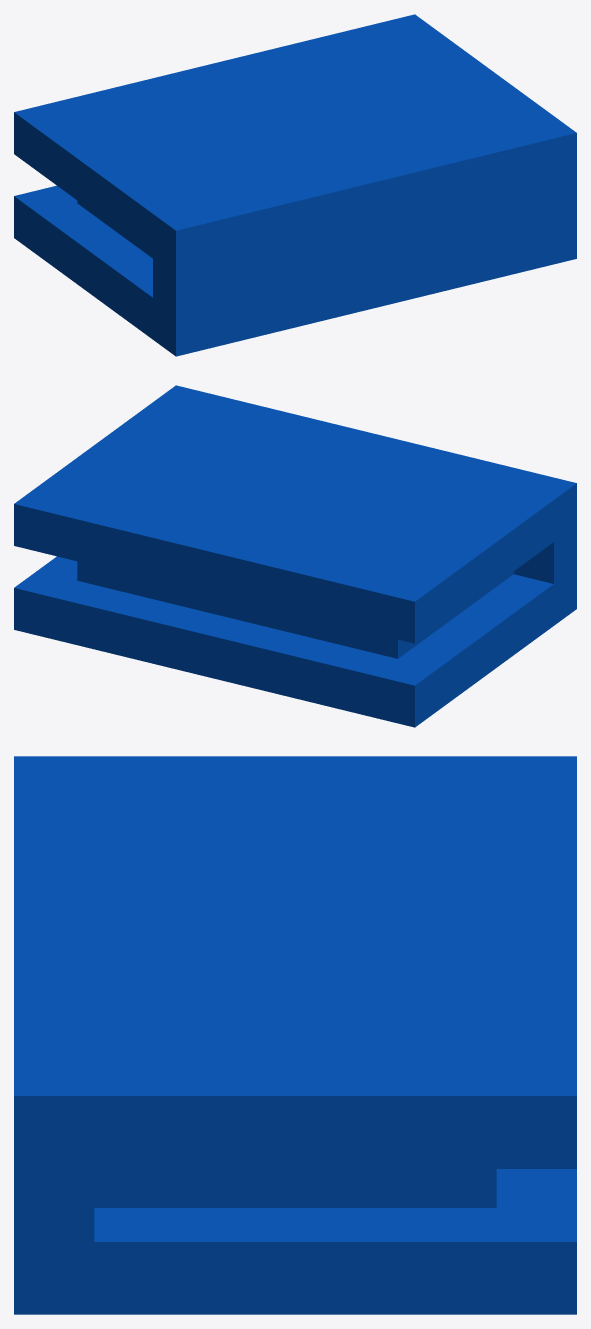
The model's file is Book.obj.
3 views of the same model, one above another, from view 1: azimuth 30°, elevation 25°; view 2: azimuth 150°, elevation 25°; view 3: azimuth 270°, elevation 25° (orthographic). The views are drawn at different scales.
Bounding box in the file's own units: 1 × 0.3 × 0.7.
